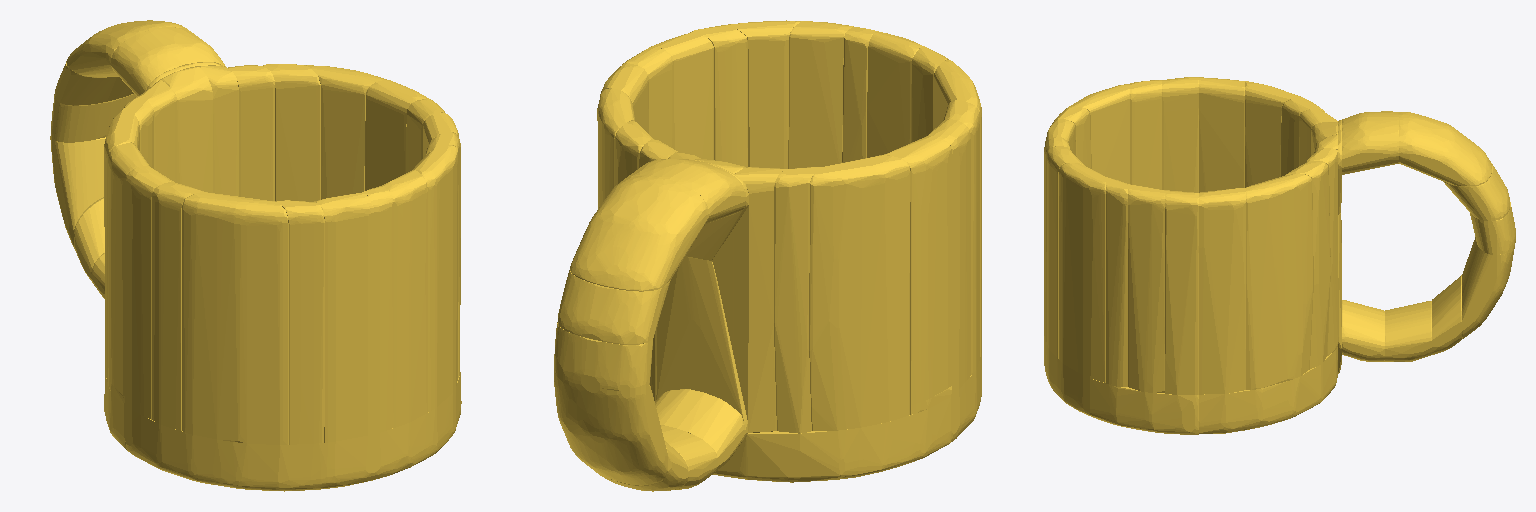
URDF robot description (897.urdf):
<?xml version="1.0" ?>
<robot name="897.urdf">
	<link name="baseLink">
		<inertial>
			<origin rpy="0 0 0" xyz="0 0 0"/>
				<mass value="0.1"/>
				<inertia ixx="6e-5" ixy="0" ixz="0" iyy="6e-5" iyz="0" izz="6e-5"/>
		</inertial>
		<visual>
			<origin rpy="0 0 0" xyz="0 0 0"/>
			<geometry>
				<mesh filename="32_decom_wt.obj" scale="1.10 1.10 1.13"/>
			</geometry>
			<material name="yellow">
				<color rgba="0.98 0.84 0.35 1"/>
			</material>
		</visual>
		<collision>
			<origin rpy="0 0 0" xyz="0 0 0"/>
			<geometry>
				<mesh filename="32_decom_wt.obj" scale="1.10 1.10 1.13"/>
			</geometry>
		</collision>
	</link>
</robot>

--- Facts derived from the render (not from the file) ---
3 views of the same robot in one strip: view 1: azimuth 30°, elevation 25°; view 2: azimuth 150°, elevation 25°; view 3: azimuth 270°, elevation 25° (orthographic).
Robot: 897.urdf — 1 links, 0 joints (none); root link baseLink; default pose: every joint at zero.
Links seen in each view (by area): view 1: baseLink; view 2: baseLink; view 3: baseLink.
Boxes of the visible links, x1=… form: baseLink: x1=50, y1=20, x2=461, y2=491; baseLink: x1=554, y1=20, x2=981, y2=491; baseLink: x1=1044, y1=77, x2=1515, y2=434.
Size in the robot's own frame: 0.1048 by 0.1654 by 0.0983 metres.
1 mesh visuals loaded from 1 distinct referenced files (1 OBJ).